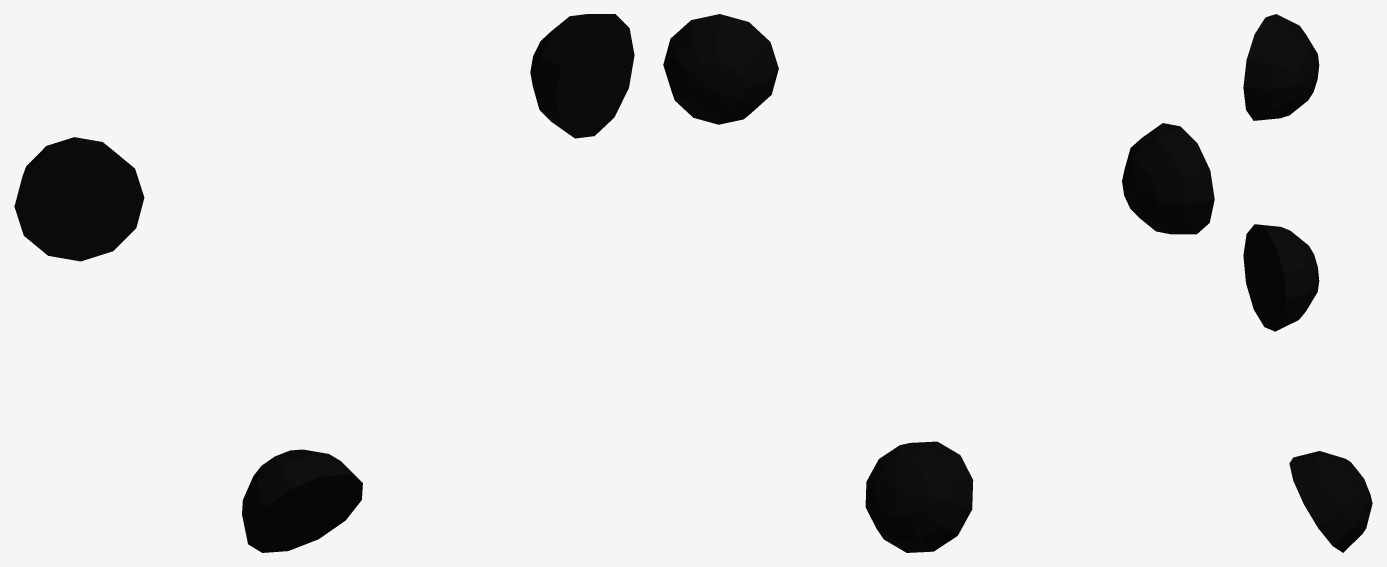
File: UnitFace.fbx
3 renders of one model, left to right at view 1: azimuth 30°, elevation 25°; view 2: azimuth 150°, elevation 25°; view 3: azimuth 270°, elevation 25°, orthographic. The views are drawn at different scales.
Visible parts, largest first — view 1: UnitFace; view 2: UnitFace; view 3: UnitFace.
Boxes of the visible parts, box(x1,y1,x2,y2) form: UnitFace: box(14, 14, 634, 552); UnitFace: box(663, 14, 1214, 552); UnitFace: box(1243, 14, 1372, 552).
Bounding box in the file's own units: 27.69 × 21.64 × 5.98.
